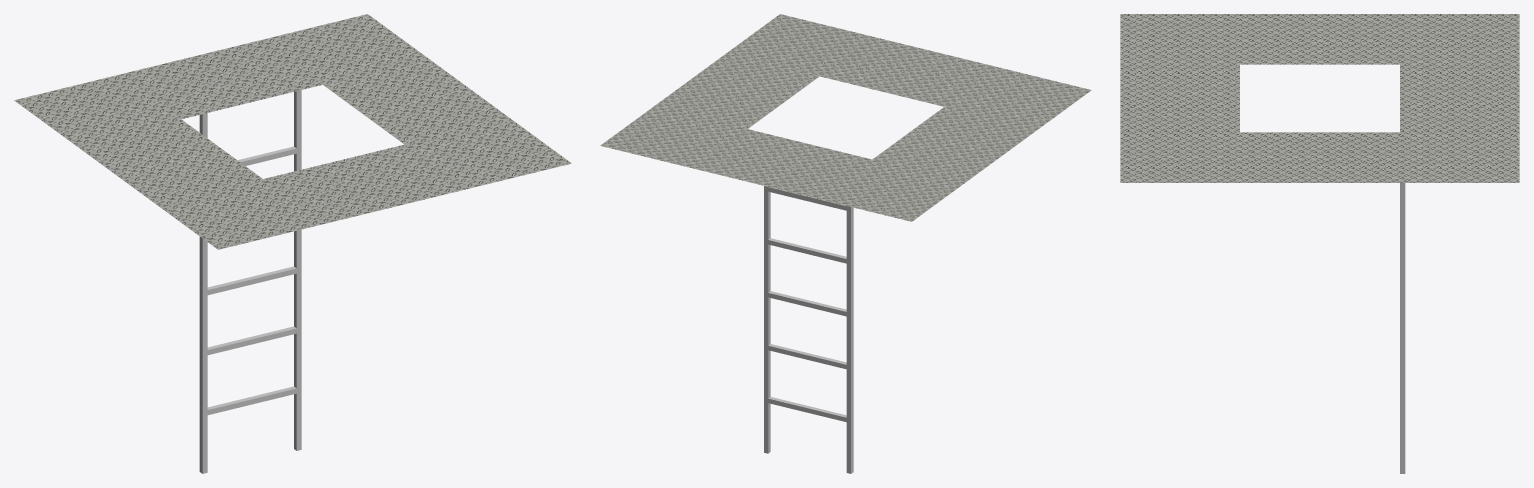
File: ladder.obj
The picture shows the model from 3 angles, left to right: view 1: azimuth 30°, elevation 25°; view 2: azimuth 150°, elevation 25°; view 3: azimuth 270°, elevation 25°; orthographic projection. The views are drawn at different scales.
Visible parts, largest first — view 1: Top floor, Right bar, Left bar, Ladder bar 3, Ladder bar 5, Ladder bar 4; view 2: Top floor, Left bar, Right bar, Ladder bar 2, Ladder bar 4, Ladder bar 3, Ladder bar 5; view 3: Top floor, Right bar.
Part boxes in pixels (box(x1,y1,x2,y2)): Top floor: box(14, 14, 571, 249); Right bar: box(294, 90, 301, 450); Left bar: box(199, 113, 207, 473); Ladder bar 3: box(207, 266, 296, 295); Ladder bar 5: box(207, 386, 296, 414); Ladder bar 4: box(207, 326, 296, 354); Top floor: box(600, 14, 1091, 221); Left bar: box(846, 206, 853, 473); Right bar: box(764, 186, 770, 453); Ladder bar 2: box(768, 238, 846, 263); Ladder bar 4: box(768, 344, 846, 369); Ladder bar 3: box(768, 291, 846, 316); Ladder bar 5: box(768, 397, 846, 422); Top floor: box(1120, 14, 1519, 182); Right bar: box(1400, 183, 1405, 473).
Bounding box in the file's own units: 3.6 × 3.5 × 3.6.
